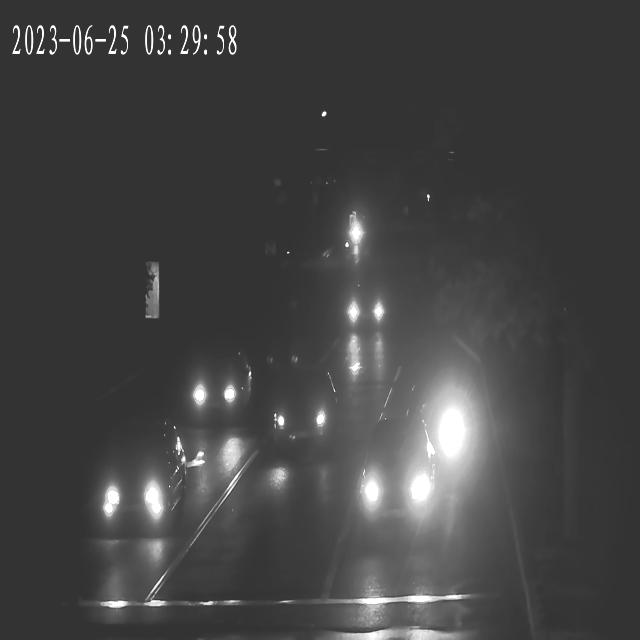Car: (80, 419, 186, 539), (342, 436, 442, 536), (390, 364, 477, 478), (267, 374, 340, 444), (181, 352, 251, 424), (340, 285, 393, 337), (345, 214, 369, 253)
